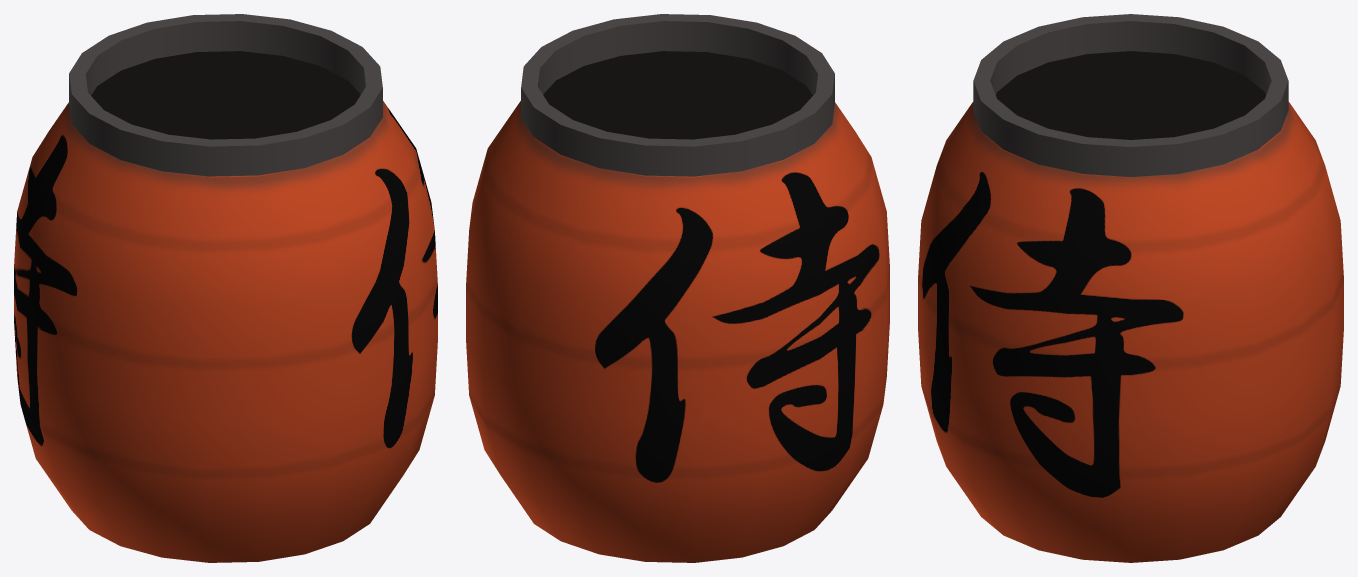
The model's file is Latern.fbx.
3 renders of one model, left to right at view 1: azimuth 30°, elevation 25°; view 2: azimuth 150°, elevation 25°; view 3: azimuth 270°, elevation 25°, orthographic.
Parts seen in each view (by area): view 1: pCylinder1; view 2: pCylinder1; view 3: pCylinder1.
Part boxes in pixels (bbox=[...]): pCylinder1: bbox=[14, 14, 437, 562]; pCylinder1: bbox=[466, 14, 889, 562]; pCylinder1: bbox=[918, 14, 1343, 562].
Bounding box in the file's own units: 2 × 2.16 × 2.
